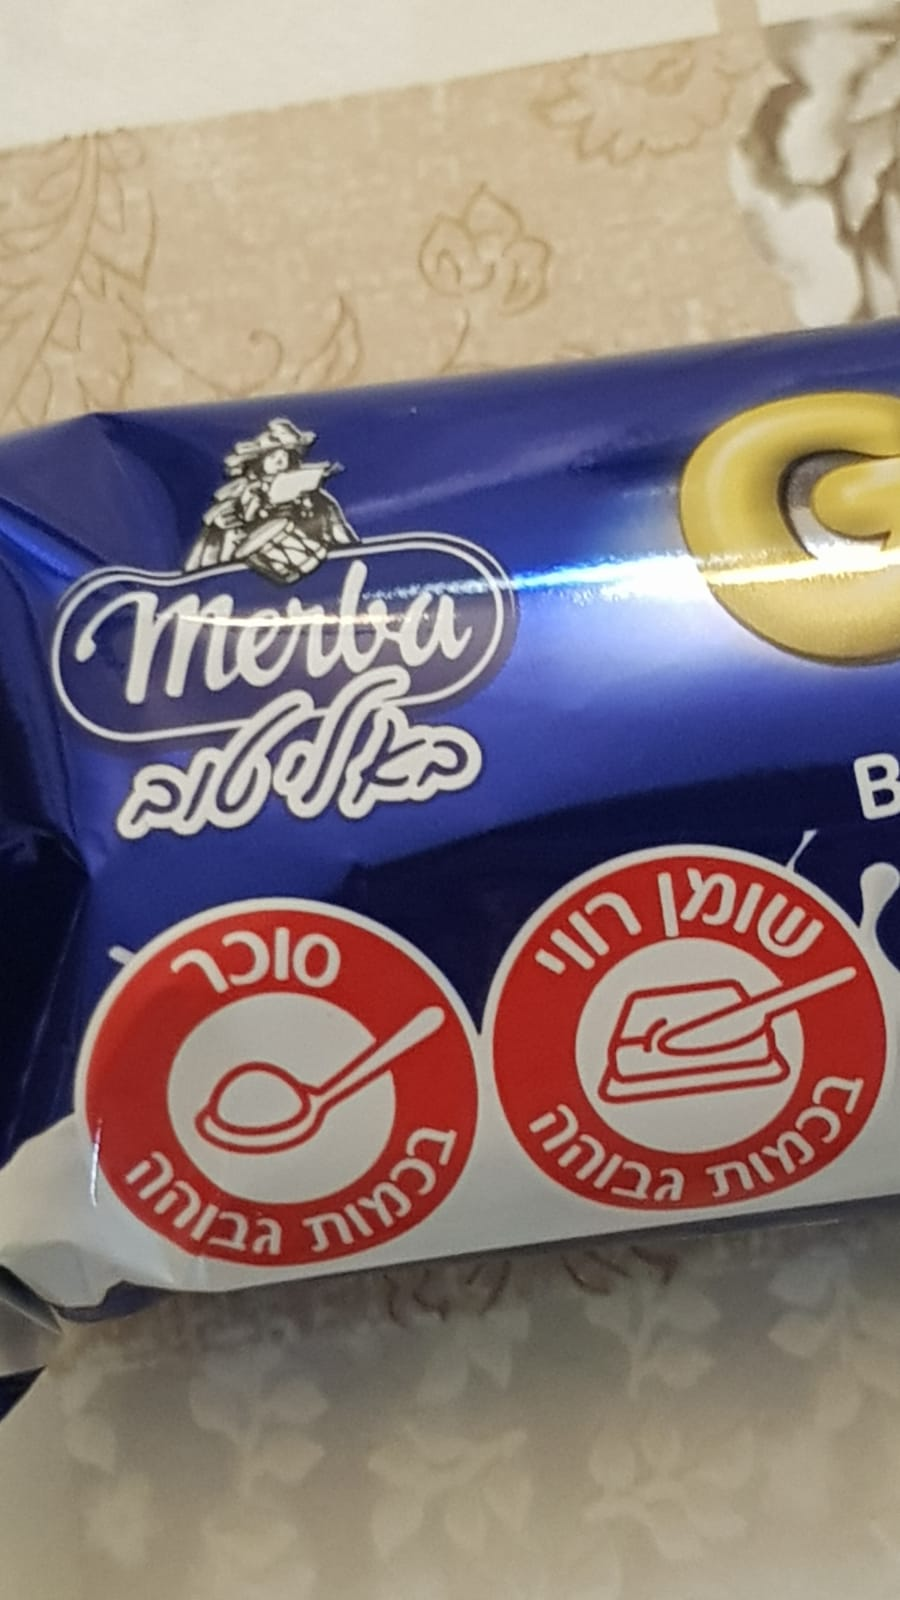fat: (486, 843, 895, 1221)
sugar: (74, 895, 484, 1275)
